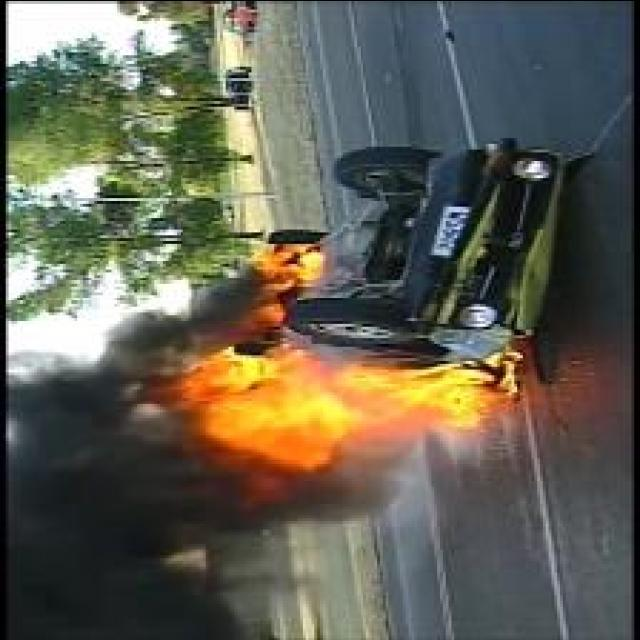Fire: (168, 341, 522, 468), (244, 242, 322, 290), (253, 302, 287, 324)
